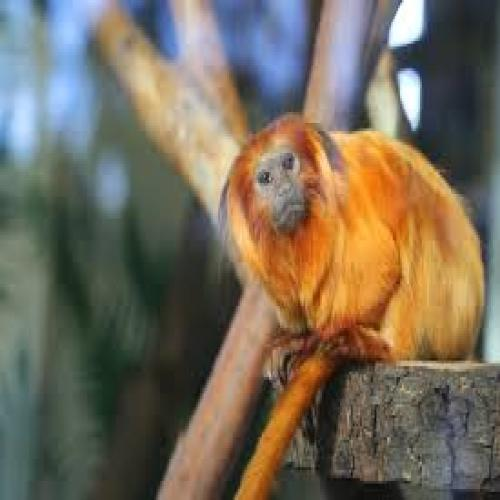orangutan-endangered: (220, 108, 488, 397)
